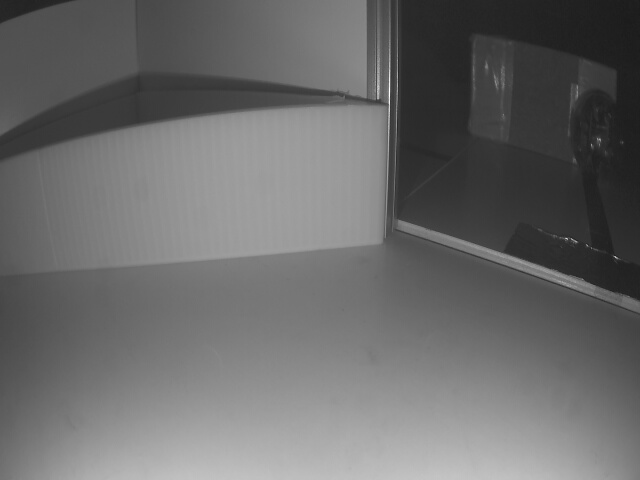Point: (0, 100, 387, 279)
